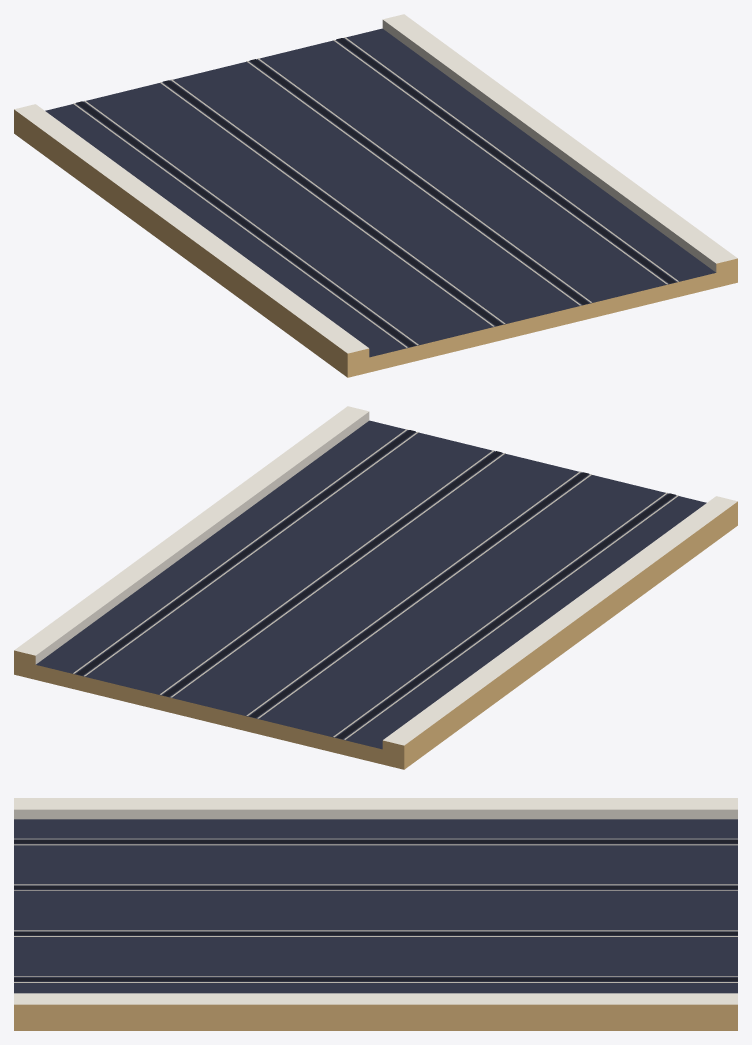
Rendered from Track_4L_Straight8.fbx.
The picture shows the model from 3 angles, top to bottom: view 1: azimuth 30°, elevation 25°; view 2: azimuth 150°, elevation 25°; view 3: azimuth 270°, elevation 25°; orthographic projection. The views are drawn at different scales.
Parts seen in each view (by area): view 1: Track_4L_Straight8; view 2: Track_4L_Straight8; view 3: Track_4L_Straight8.
Boxes of the visible parts, x1,y1,x2,y2 form: Track_4L_Straight8: (14,14,737,377); Track_4L_Straight8: (14,406,737,769); Track_4L_Straight8: (14,798,737,1030).
Bounding box in the file's own units: 5.4 × 0.32 × 8.
